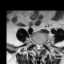CCS_normal: (38, 41, 39, 52)
LFS_stenosis: (41, 41, 44, 48)
LLS_normal: (39, 42, 41, 50)
RFS_normal: (33, 39, 35, 47)
RLS_normal: (35, 41, 38, 50)
